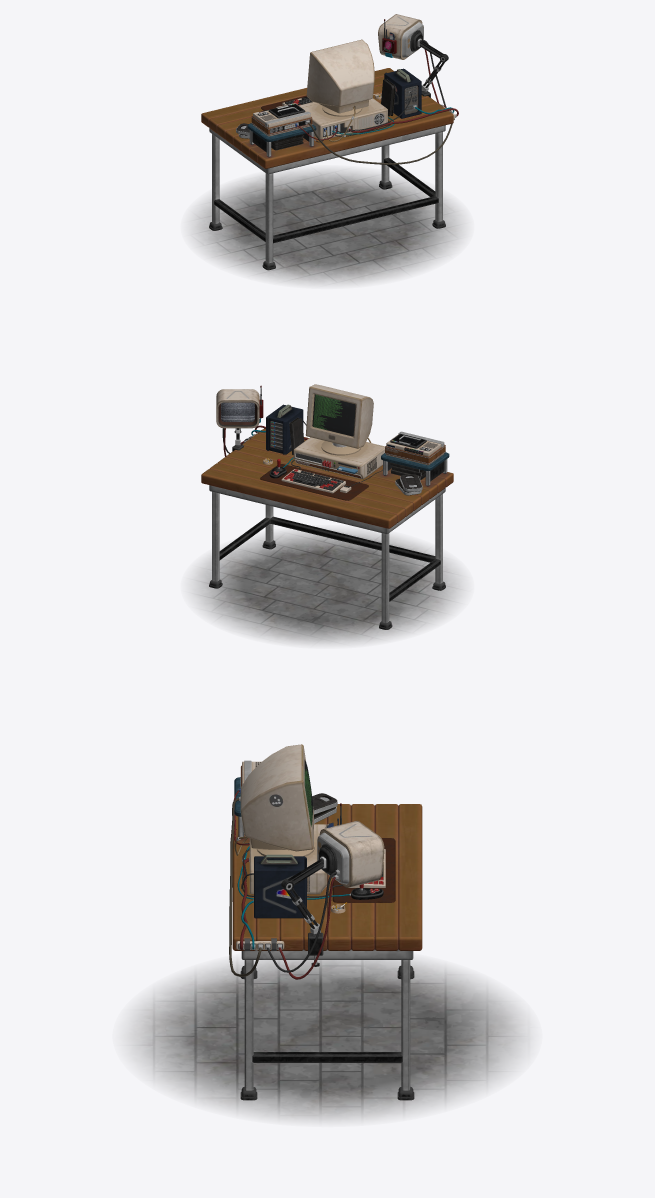
Rendered from hacker_room_mobile.glb.
3 views of the same model, one above another, from view 1: azimuth 30°, elevation 25°; view 2: azimuth 150°, elevation 25°; view 3: azimuth 270°, elevation 25° (orthographic). The views are drawn at different scales.
Parts seen in each view (by area): view 1: Ground, table, computer, Cables, Tv, vhs, server, props, shelf, arm; view 2: Ground, table, computer, screen, vhs, server, props, Tv, peripherals, keyboard_mat, shelf; view 3: Ground, table, computer, Tv, Cables, server, arm, keyboard_mat, props, peripherals.
Boxes of the visible parts, box(x1,y1,x2,y2) form: Ground: box(190, 169, 464, 284); table: box(201, 68, 453, 270); computer: box(299, 39, 387, 140); Cables: box(295, 39, 458, 164); Tv: box(378, 14, 423, 59); vhs: box(251, 103, 312, 136); server: box(384, 68, 421, 118); props: box(236, 79, 395, 150); shelf: box(247, 123, 316, 157); arm: box(410, 30, 448, 97); Ground: box(190, 529, 464, 644); table: box(201, 428, 453, 629); computer: box(293, 384, 384, 479); screen: box(221, 394, 355, 436); vhs: box(385, 431, 445, 465); server: box(266, 404, 303, 454); props: box(263, 417, 425, 495); Tv: box(216, 385, 263, 428); peripherals: box(269, 459, 351, 493); keyboard_mat: box(260, 464, 368, 500); shelf: box(381, 452, 449, 486); Ground: box(126, 959, 528, 1121); table: box(232, 804, 422, 1100); computer: box(240, 744, 327, 894); Tv: box(317, 803, 384, 887); Cables: box(229, 788, 350, 979); server: box(254, 854, 306, 918); arm: box(281, 844, 337, 966); keyboard_mat: box(332, 838, 395, 902); props: box(312, 793, 346, 913); peripherals: box(349, 849, 385, 899).
Bounding box in the file's own units: 272 × 119 × 245.
14 materials, 14 textured.
